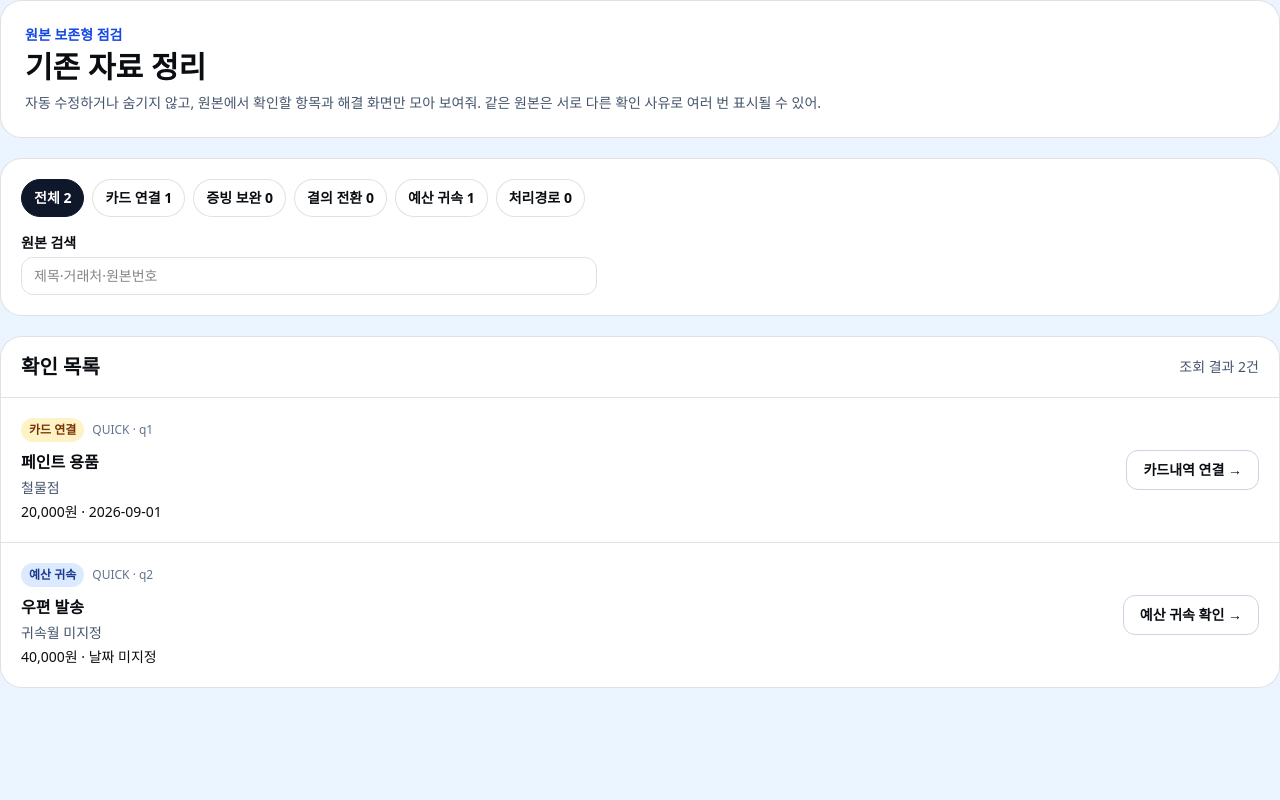
Test: DataCleanupPage › filters preserved originals by reason and search
Check: the text "조회 결과 2건" is shown, box [1179,357,1259,377]
Click the button "예산 귀속 1". click: (441, 198)
box: [395,179,488,217]
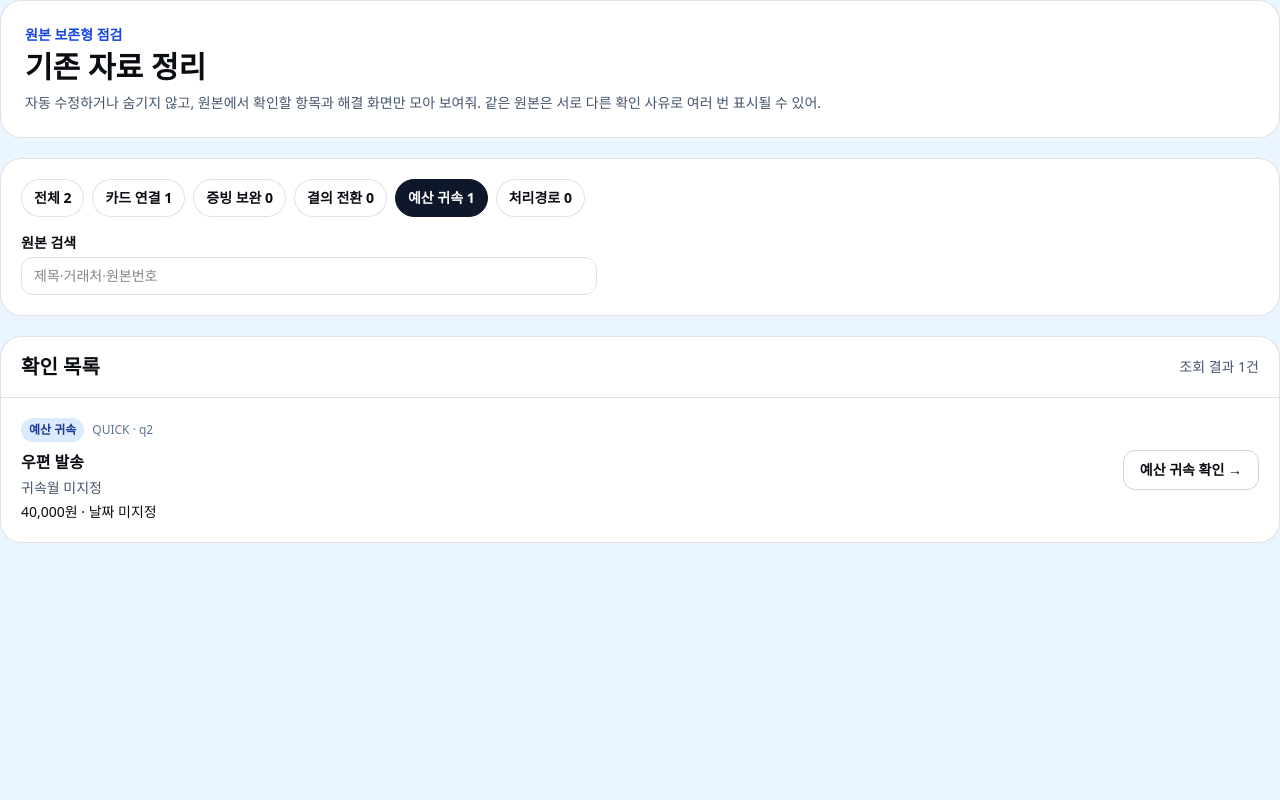
Check: the text "조회 결과 1건" is shown, box [1179,357,1259,377]
Check: the heading "페인트 용품" is gone
Click the button "전체 2". click: (53, 198)
box: [21,179,84,217]
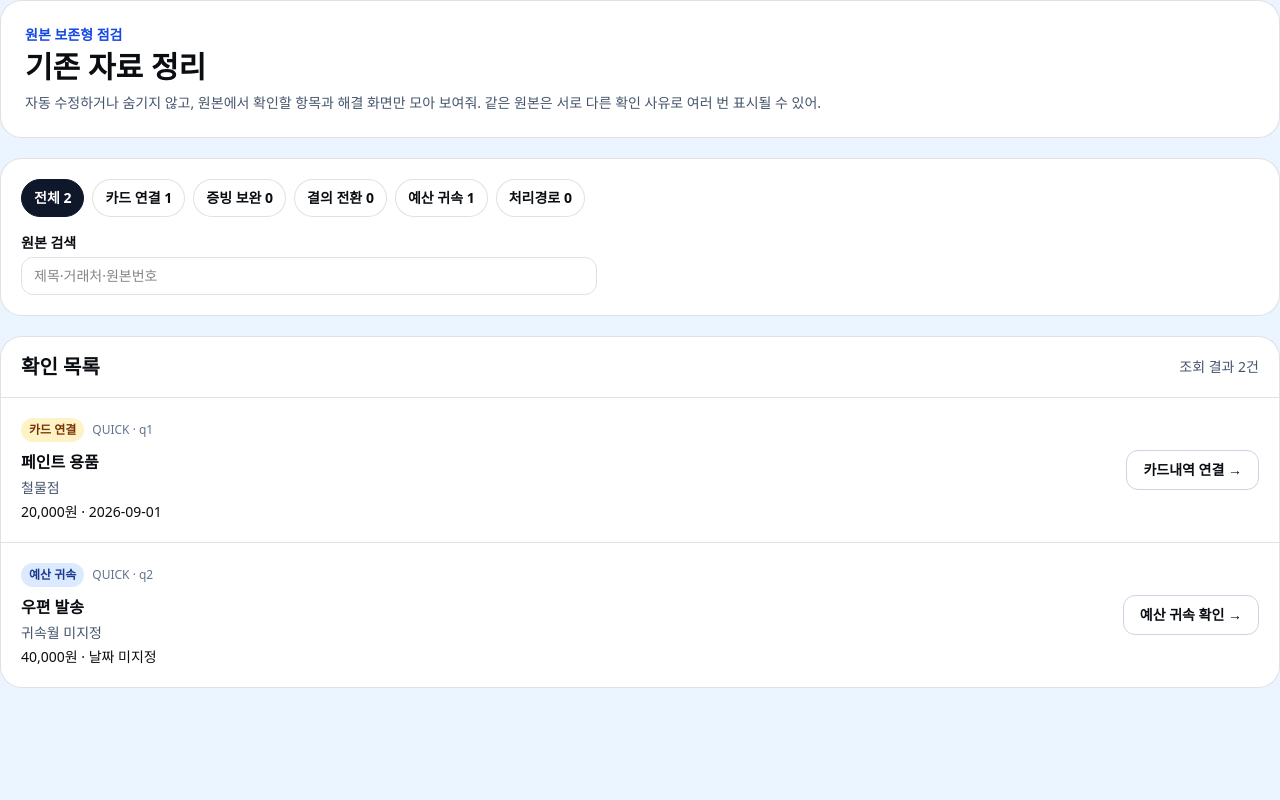
Type "철물점" into the field labelled "원본 검색". click: (309, 276)
box: [21,257,597,295]
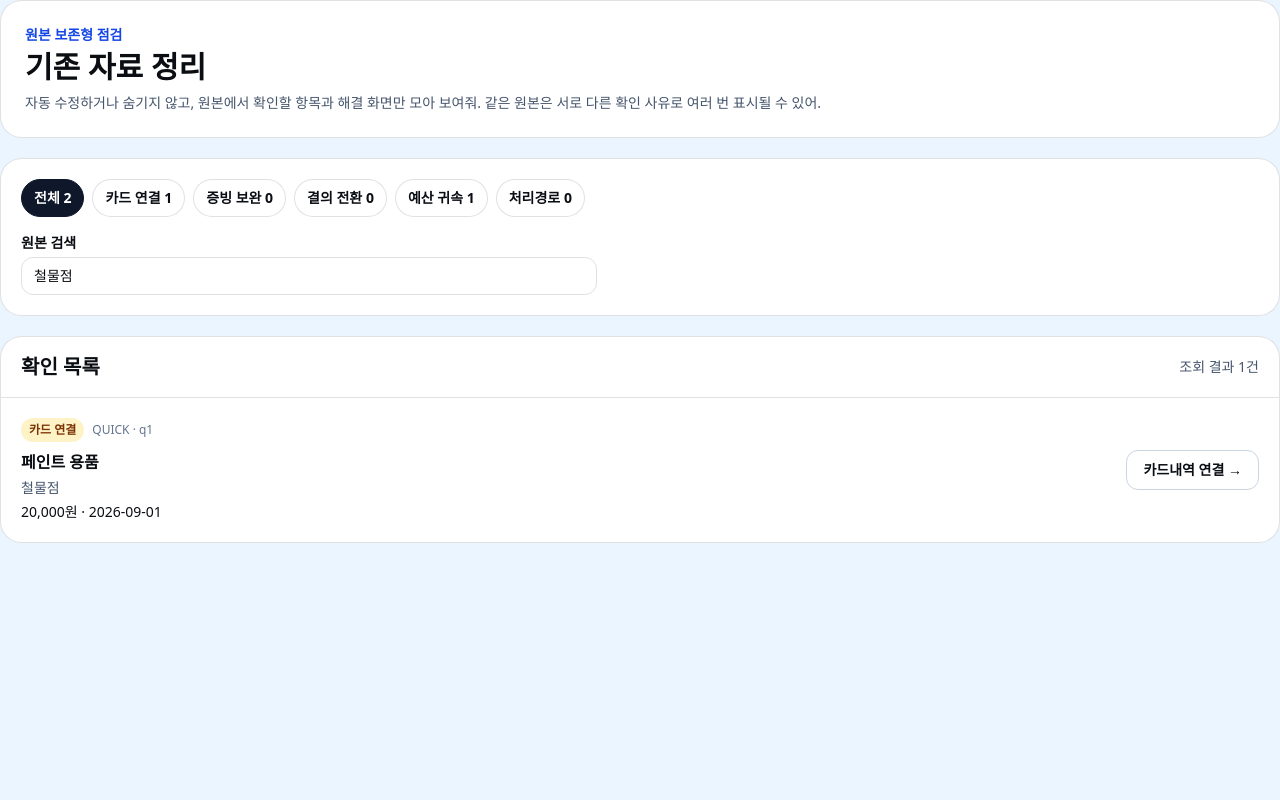
Check: the text "조회 결과 1건" is shown, box [1179,357,1259,377]
